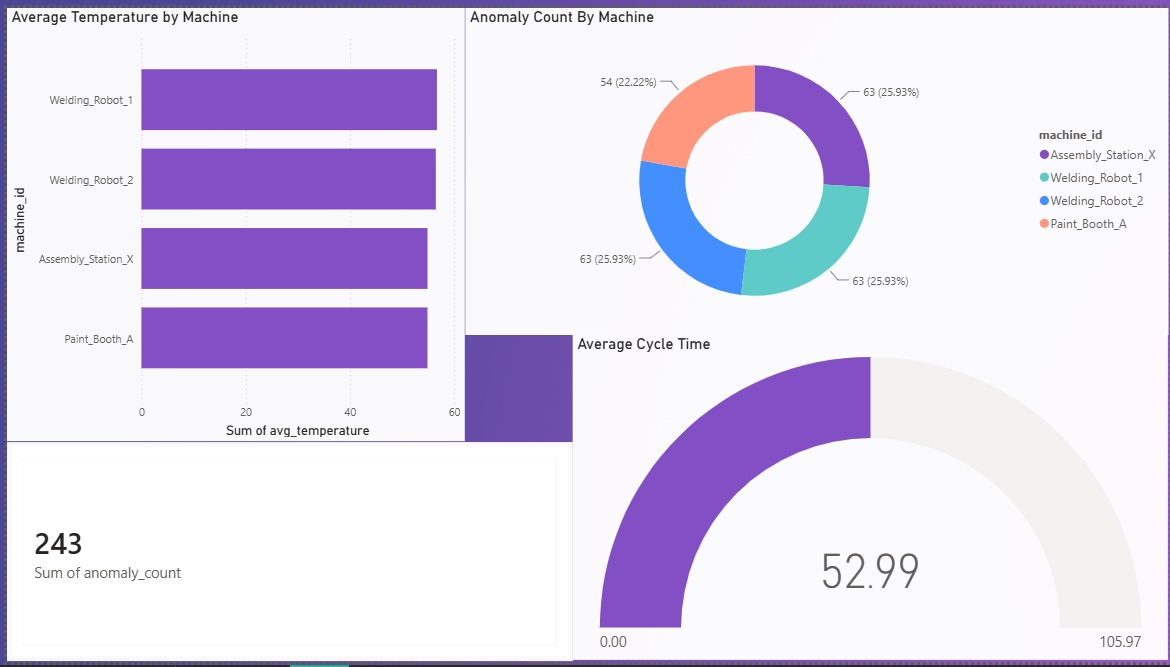

This screenshot's page, from the dashboard's own definition file:
{"tool":"powerbi","page":{"name":"Page 1","canvas":[1280,720],"ordinal":0},"visuals":[{"type":"cardVisual","title":"Total Anomalies","fields":{"Data":["Sum(gold_iot_metrics.anomaly_count)"]},"box":[0,477.5,623.3,241.6],"z":0},{"type":"clusteredBarChart","title":"Average Temperature by Machine","fields":{"Category":["gold_iot_metrics.machine_id"],"Y":["Sum(gold_iot_metrics.avg_temperature)"]},"box":[0,0,504.4,477.5],"z":1},{"type":"donutChart","title":"Anomaly Count By Machine ","fields":{"Category":["gold_iot_metrics.machine_id"],"Y":["Sum(gold_iot_metrics.anomaly_count)"]},"box":[504.4,0,774.8,360.5],"z":2},{"type":"gauge","title":"Average Cycle Time","fields":{"Y":["Avg(gold_iot_metrics.avg_cycle_time)"]},"box":[623.3,360.5,655.9,358.6],"z":3}]}

Visuals, with their boxes in screenshot pixels (x1, y1, x2, y2), scaled from the page's 1280x720 canvas onto the 1170x667 screenshot:
"Total Anomalies" cardVisual: [0,442,570,666]
"Average Temperature by Machine" clusteredBarChart: [0,0,461,442]
"Anomaly Count By Machine " donutChart: [461,0,1169,334]
"Average Cycle Time" gauge: [570,334,1169,666]
